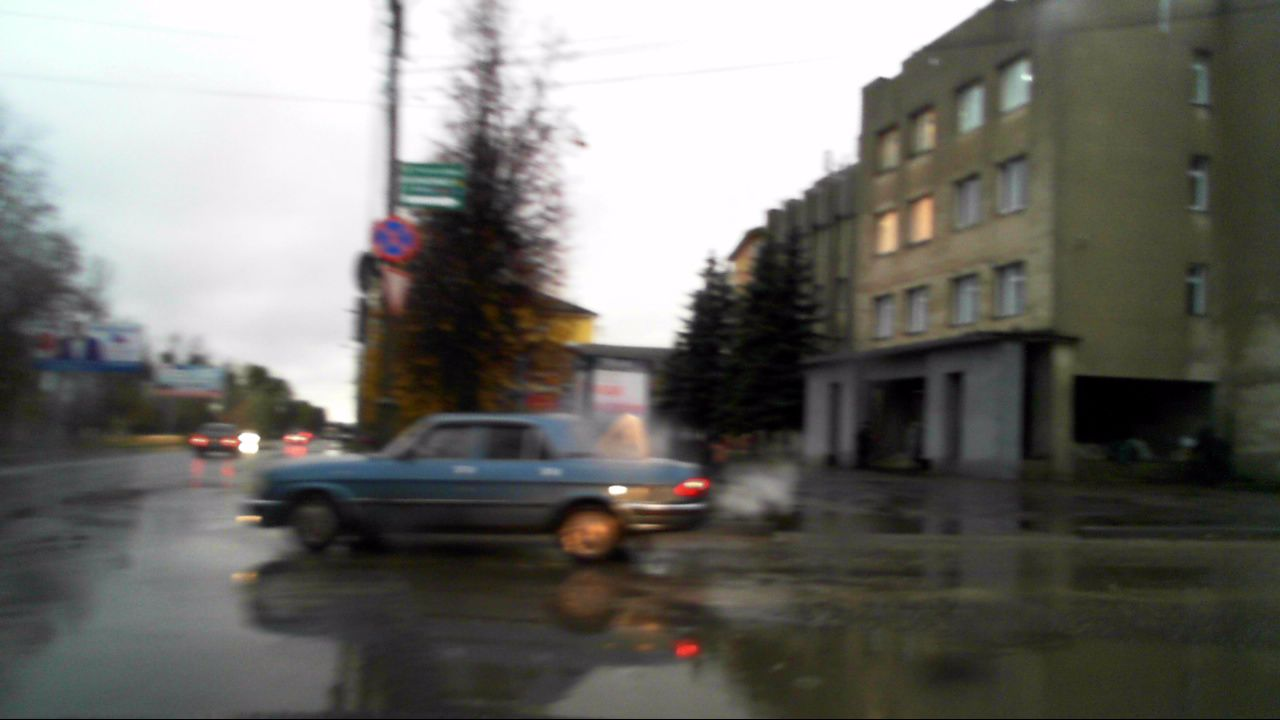No Parking: (370, 216, 419, 264)
